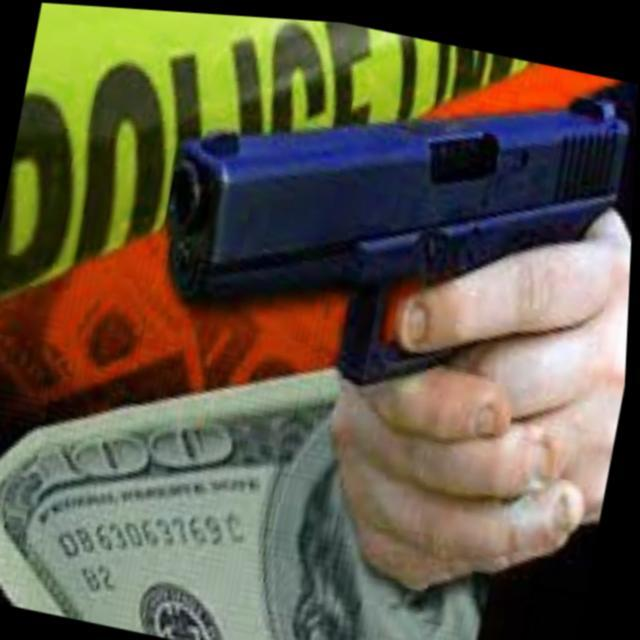weapon: (145, 9, 640, 388)
